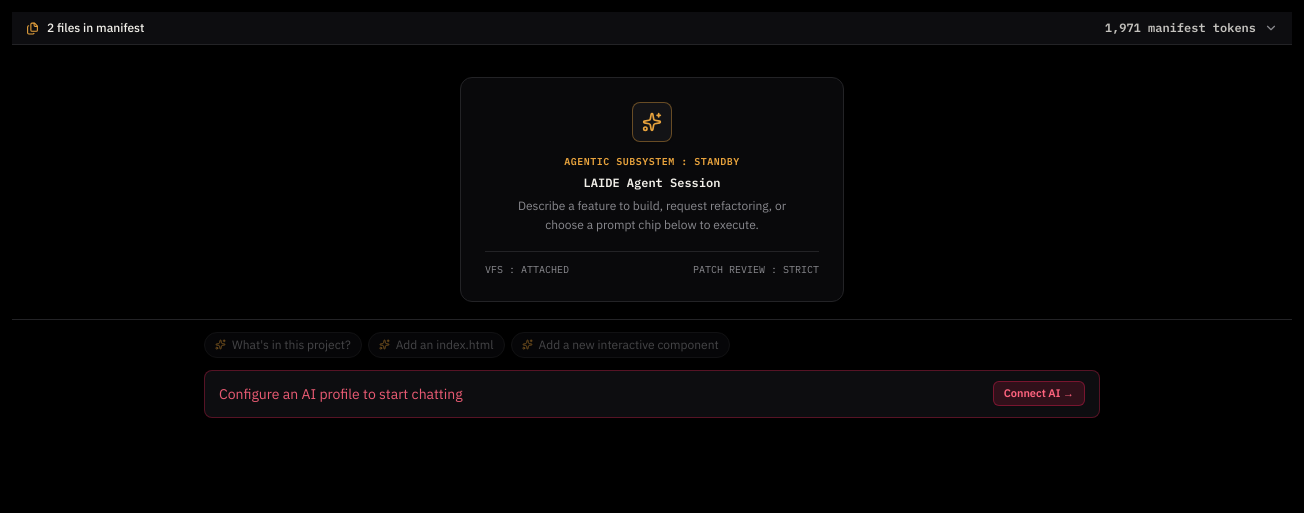
Test: ChatPanel Controls & Collapsed Summary Chip › expands and renders manifest files with solid opaque container and byte sizes
// Expand dropdown
Click the button "2 files in manifest 1,971 manifest tokens": coordinates (112, 28) [12, 12, 1292, 44]
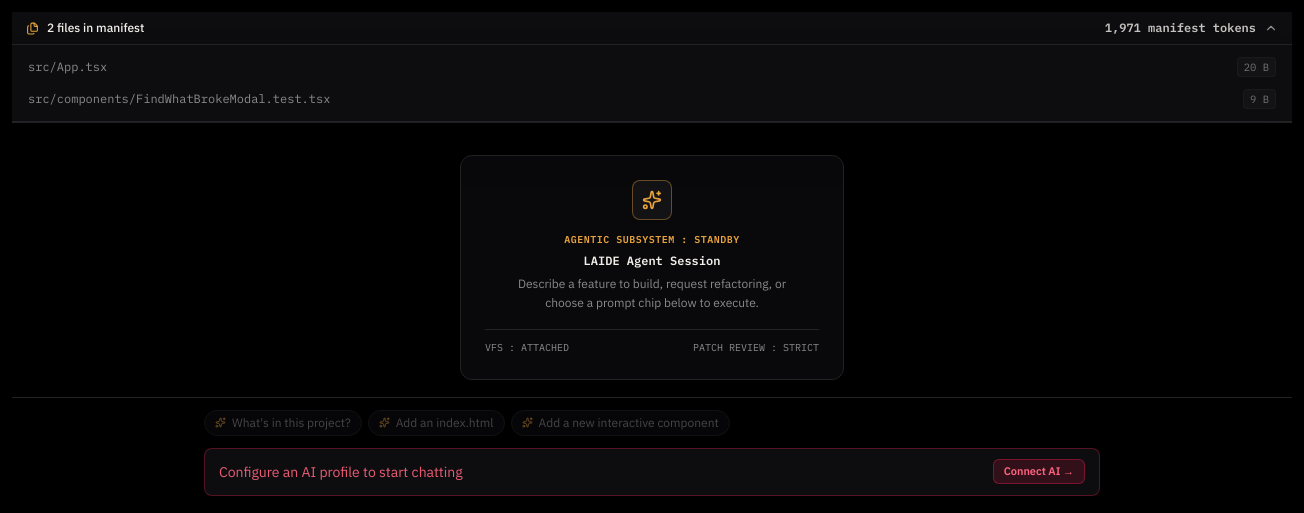
Expected: the element named "Manifest files list" is shown, [12, 44, 1292, 122]
Expected: the text "src/App.tsx" is shown, [28, 59, 107, 75]
Expected: the element titled "src/components/FindWhatBrokeModal.test.tsx" is shown, [20, 85, 1284, 113]
